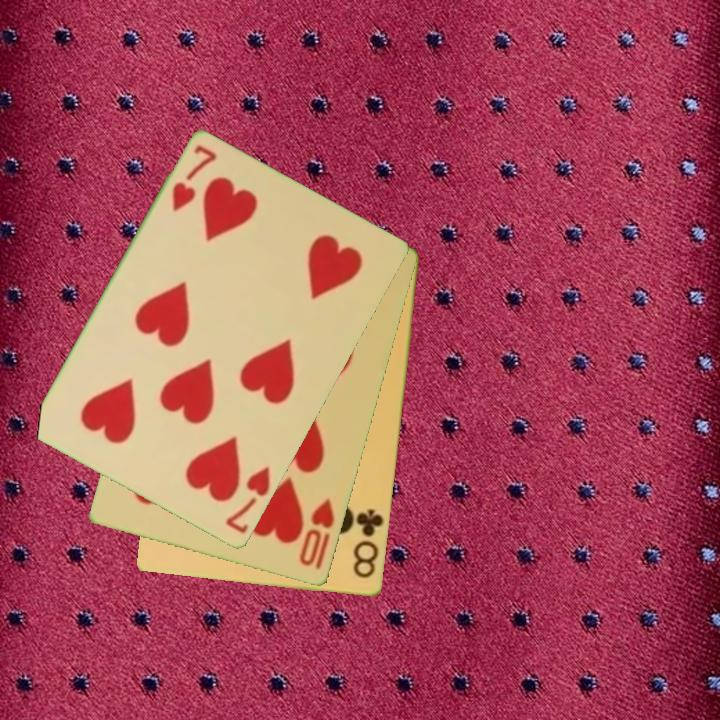10h: (296, 495, 338, 570)
7h: (222, 463, 274, 537), (168, 142, 220, 215)
8c: (350, 506, 387, 582)
